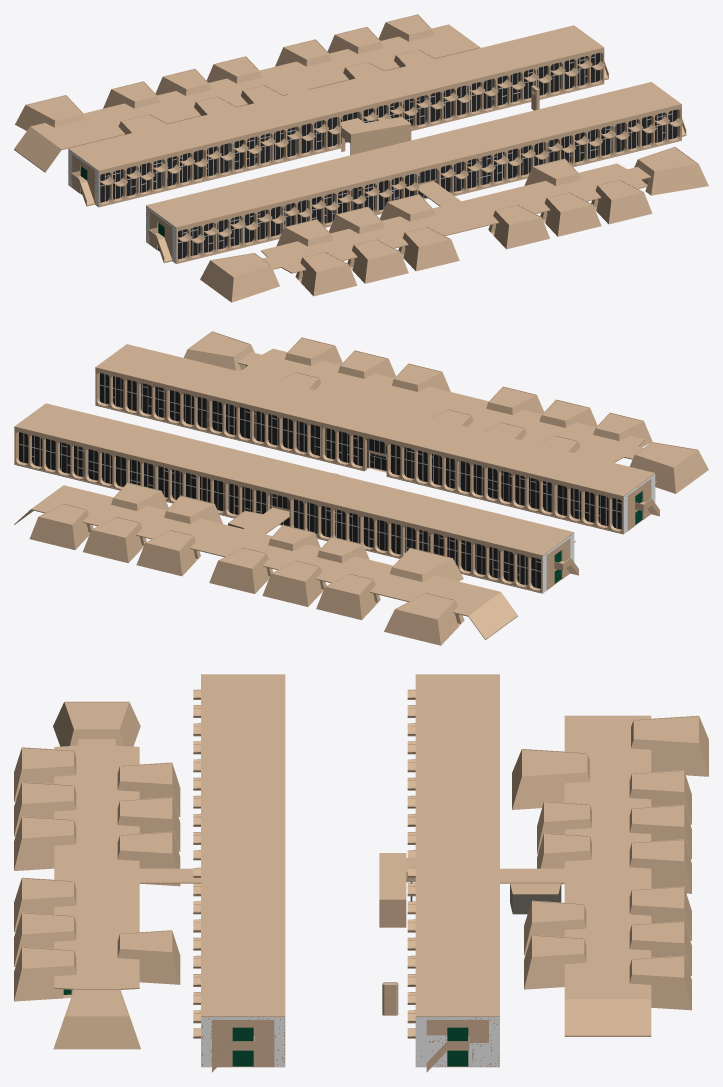
File: amphis to salles td.gltf
3 views of the same model, one above another, from view 1: azimuth 30°, elevation 25°; view 2: azimuth 150°, elevation 25°; view 3: azimuth 270°, elevation 25° (orthographic). The views are drawn at different scales.
Visible parts, largest first — view 1: 100-200, 300-400, amphiM-X, amphiA-L; view 2: 300-400, 100-200, amphiA-L, amphiM-X; view 3: amphiA-L, amphiM-X, 100-200, 300-400.
Boxes of the visible parts, <box> form: 100-200: <box>68,25,608,207</box>; 300-400: <box>146,82,686,263</box>; amphiM-X: <box>200,147,708,302</box>; amphiA-L: <box>14,14,480,172</box>; 300-400: <box>95,344,659,534</box>; 100-200: <box>14,403,578,593</box>; amphiA-L: <box>14,482,517,645</box>; amphiM-X: <box>183,331,708,493</box>; amphiA-L: <box>500,715,708,1036</box>; amphiM-X: <box>14,701,200,1049</box>; 100-200: <box>379,674,499,1072</box>; 300-400: <box>193,674,285,1072</box>.
Size of the model in its own units: 270 by 20.42 by 224.
Materials: 1 (1 with a texture image).
